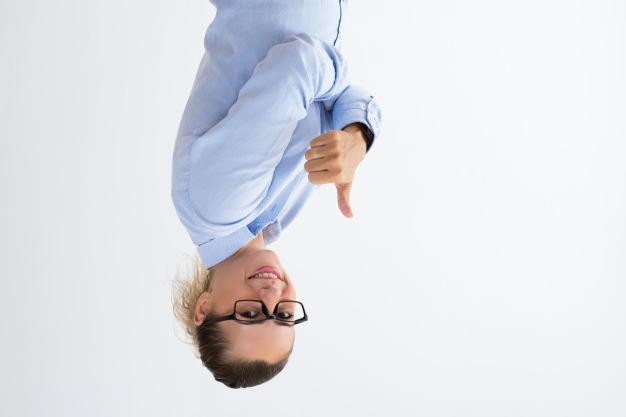thumbsdown: (304, 130, 354, 219)
